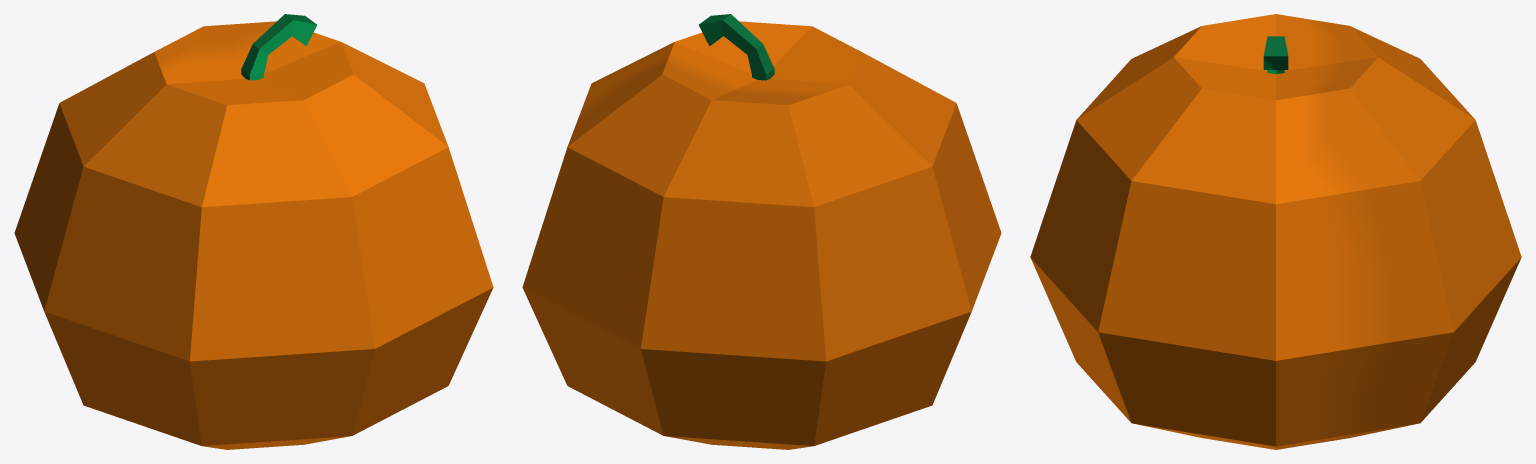
File: pumpkin.glb
3 views of the same model, side by side, from view 1: azimuth 30°, elevation 25°; view 2: azimuth 150°, elevation 25°; view 3: azimuth 270°, elevation 25° (orthographic).
Visible parts, largest first — view 1: Cube; view 2: Cube; view 3: Cube.
Boxes of the visible parts, x1,y1,x2,y2 form: Cube: (14,14,493,449); Cube: (522,14,1001,449); Cube: (1030,14,1521,449).
Size of the model in its own units: 1.05 by 0.9179 by 1.05.
1 material, 1 textured.
